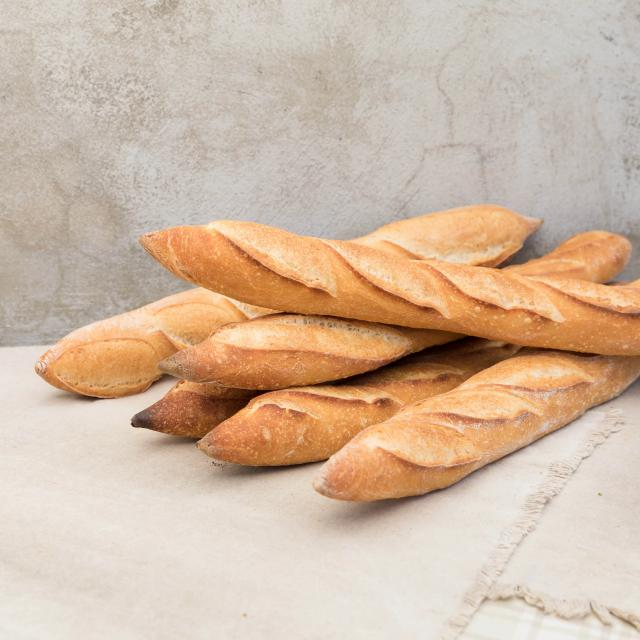Baguette: (140, 221, 640, 355), (314, 348, 640, 501), (198, 340, 519, 465), (35, 287, 279, 398), (160, 313, 466, 390), (350, 205, 542, 266), (503, 231, 630, 283)
